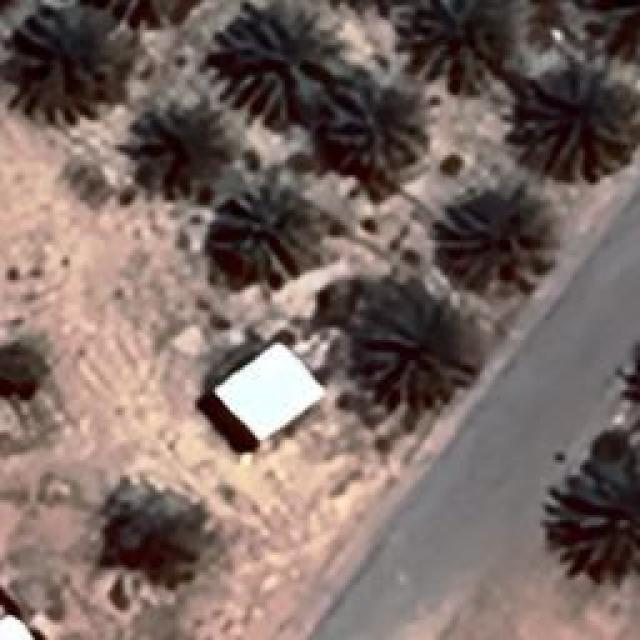PalmTree: (98, 31, 375, 134), (222, 4, 350, 128), (512, 60, 630, 178), (120, 90, 238, 198), (352, 305, 478, 405), (215, 167, 318, 285), (10, 2, 115, 116), (552, 452, 638, 578), (107, 485, 207, 590), (402, 0, 508, 95), (434, 205, 548, 290), (580, 0, 640, 60)
